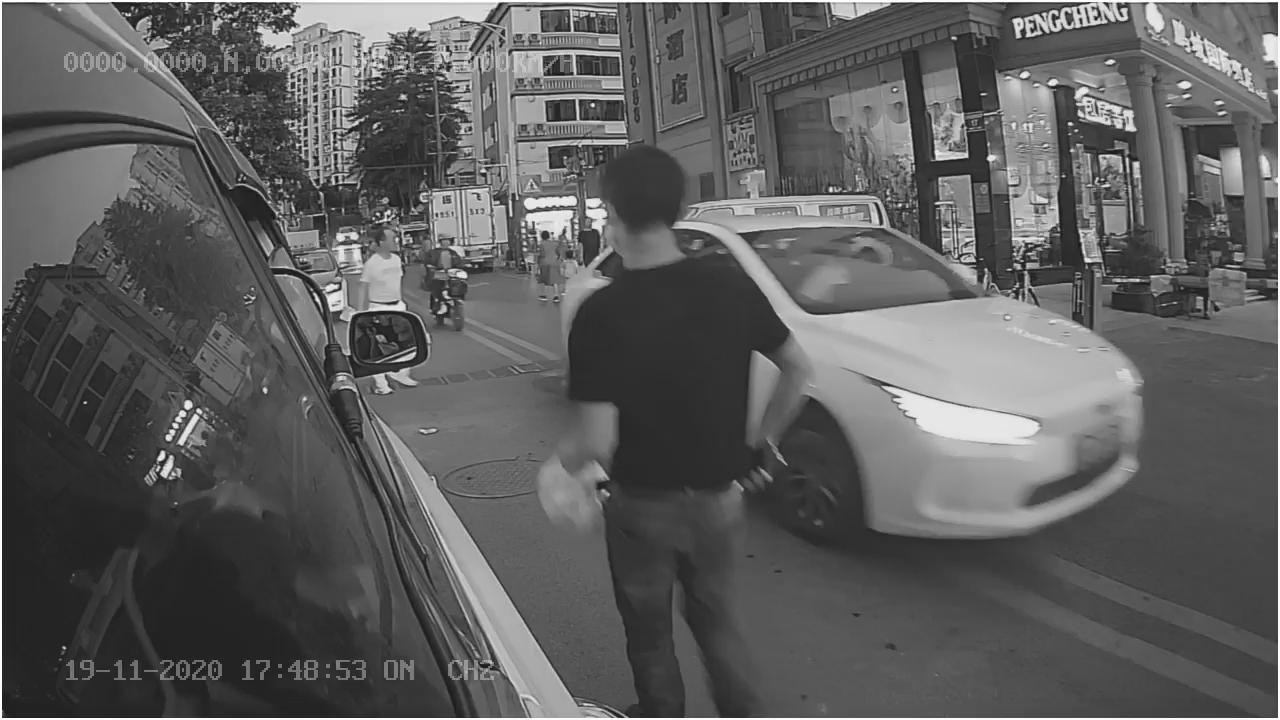person: (570, 153, 814, 636)
